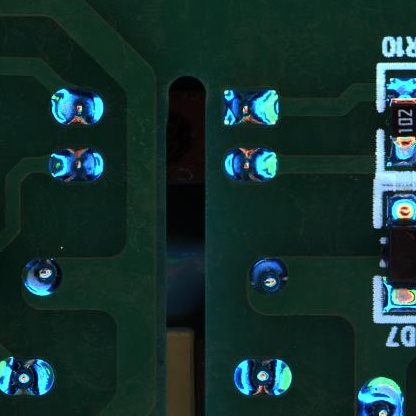spot: (1, 355, 55, 398), (233, 360, 291, 397), (51, 88, 104, 124), (226, 89, 279, 125), (357, 376, 404, 416), (47, 147, 102, 181), (222, 149, 275, 180), (250, 259, 289, 299), (22, 260, 63, 296)
